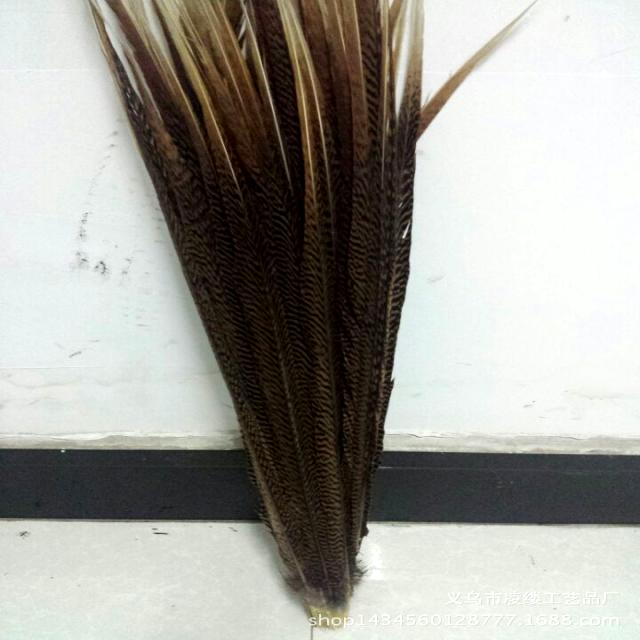Chrysolophus pictus feather: (89, 0, 526, 613)
